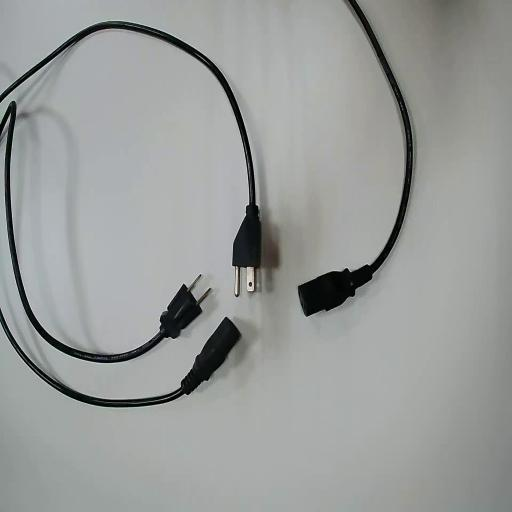wire: (0, 23, 261, 269), (0, 102, 200, 361), (299, 0, 412, 314)
